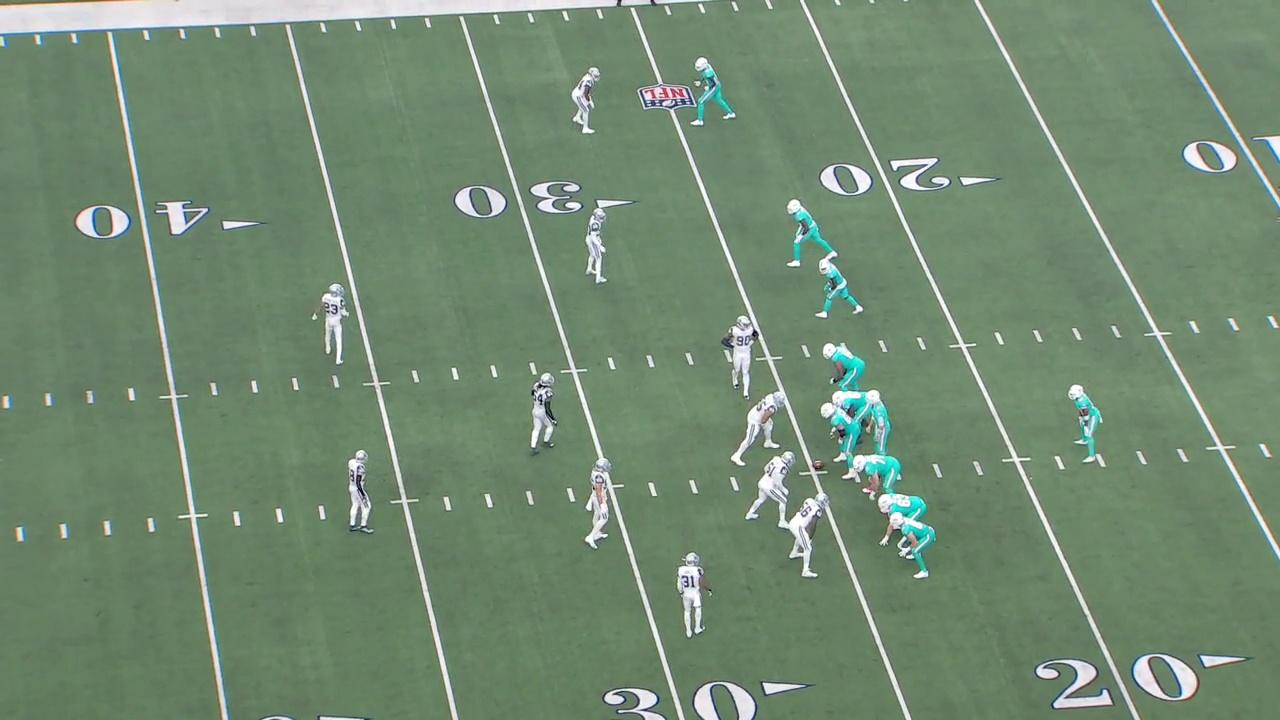defense: (729, 390, 788, 468), (743, 450, 798, 530), (786, 491, 832, 581), (310, 281, 352, 368), (675, 549, 715, 639), (720, 313, 760, 401), (344, 448, 378, 537), (583, 457, 614, 552), (527, 371, 560, 459), (567, 64, 606, 138), (581, 208, 611, 285)
oline: (820, 400, 862, 481), (876, 492, 929, 548), (829, 388, 874, 446), (851, 452, 902, 501), (821, 341, 868, 392)
qb: (863, 388, 894, 456)
skill: (783, 197, 841, 269), (689, 54, 738, 128), (811, 256, 865, 322), (888, 511, 938, 581), (1066, 382, 1104, 466)
